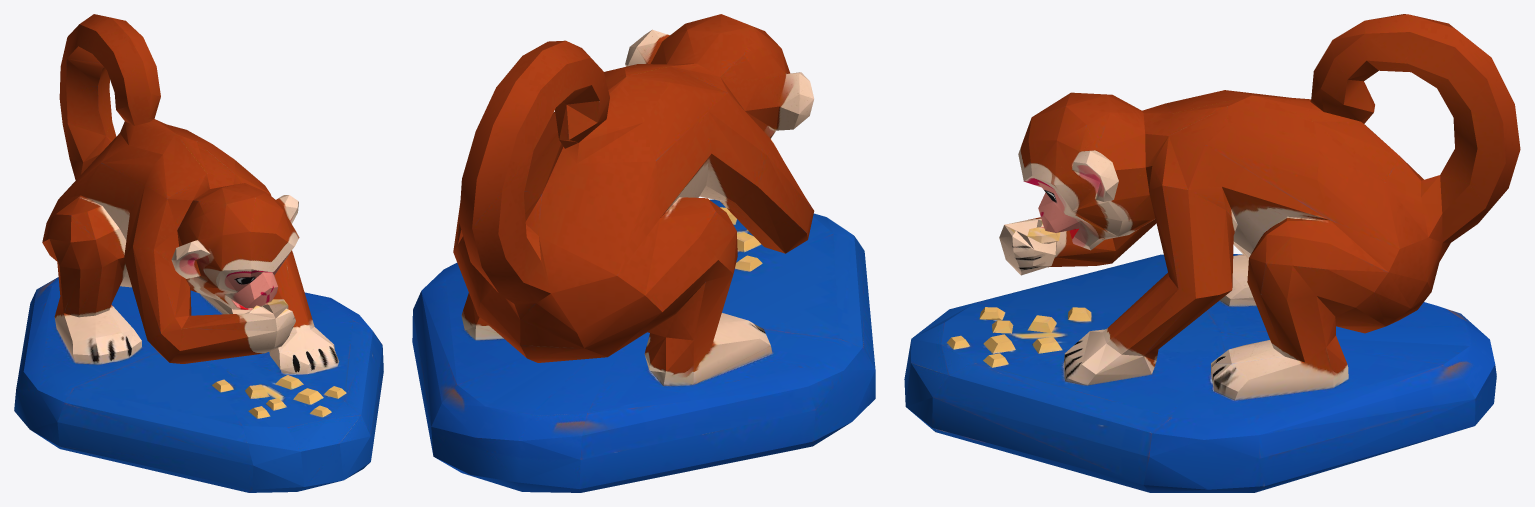
File: monkey.glb
The picture shows the model from 3 angles, left to right: view 1: azimuth 30°, elevation 25°; view 2: azimuth 150°, elevation 25°; view 3: azimuth 270°, elevation 25°; orthographic projection. The views are drawn at different scales.
Parts seen in each view (by area): view 1: mesh_000; view 2: mesh_000; view 3: mesh_000.
Boxes of the visible parts, bbox=[...] form: mesh_000: bbox=[14, 14, 383, 492]; mesh_000: bbox=[412, 14, 875, 492]; mesh_000: bbox=[904, 14, 1520, 492].
Size of the model in its own units: 0.7242 by 0.6675 by 0.9648.
Materials: 1 (1 with a texture image).
